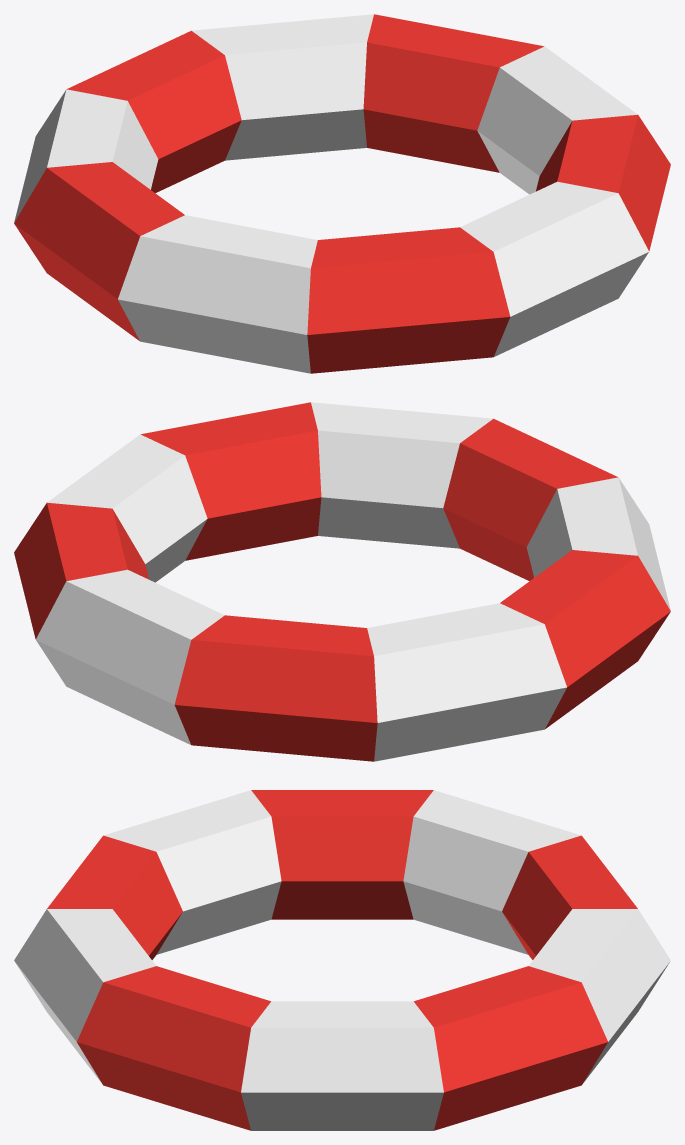
3 views of the same model, one above another, from view 1: azimuth 30°, elevation 25°; view 2: azimuth 150°, elevation 25°; view 3: azimuth 270°, elevation 25° (orthographic). The views are drawn at different scales.
Parts seen in each view (by area): view 1: Circle_02; view 2: Circle_02; view 3: Circle_02.
Part boxes in pixels (x1,y1,x2,y2): Circle_02: (14,14,670,373); Circle_02: (14,402,670,761); Circle_02: (14,790,670,1130).
Size of the model in its own units: 52.16 by 9.5 by 54.84.
